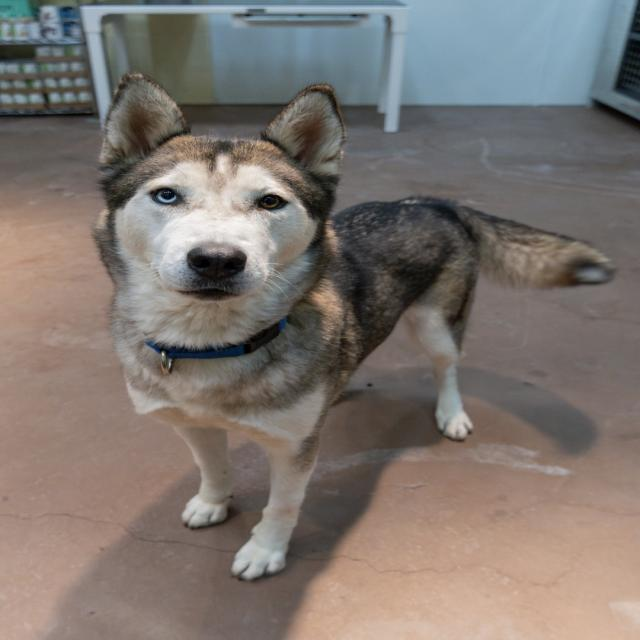siberian_husky_dog: (76, 61, 358, 326)
